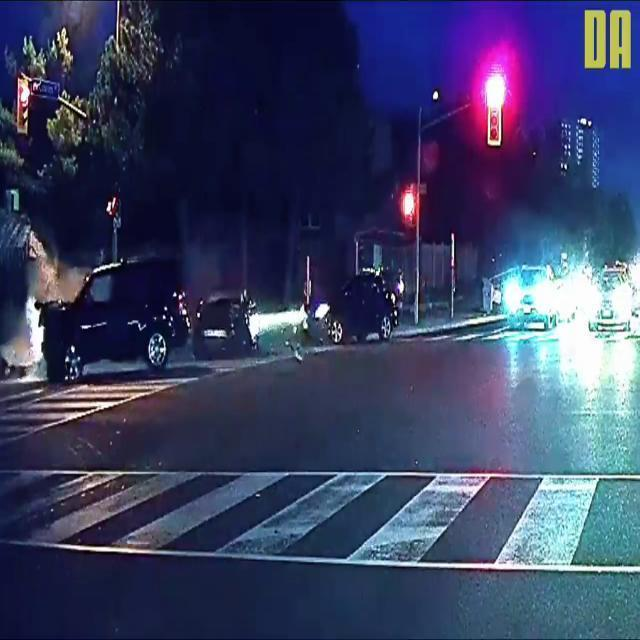accident: (34, 248, 194, 374)
non-accident: (580, 260, 640, 332)
